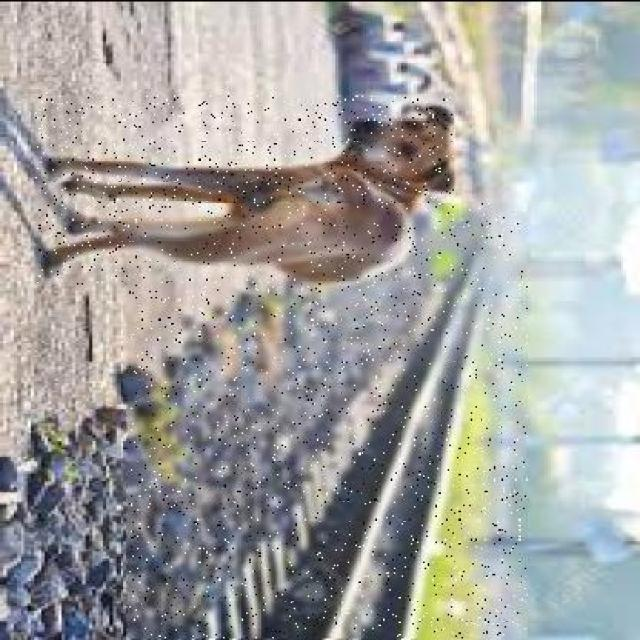danger: (35, 94, 454, 283)
rail: (129, 202, 526, 637)
